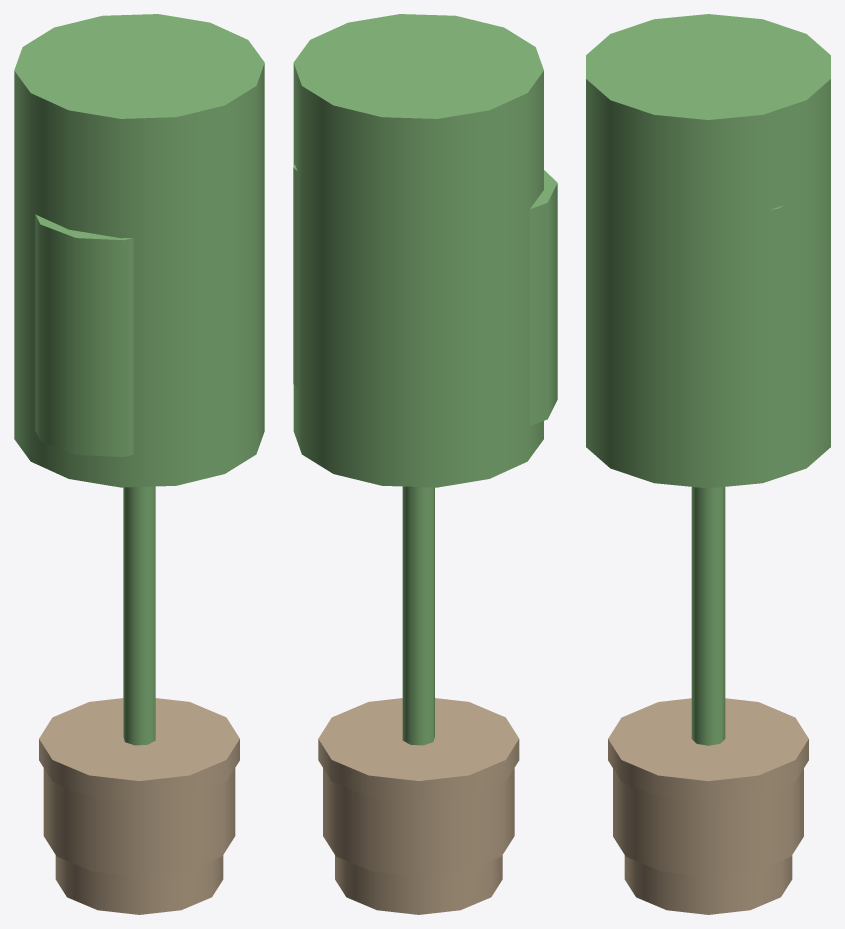
File: plant-large.glb
3 views of the same model, side by side, from view 1: azimuth 30°, elevation 25°; view 2: azimuth 150°, elevation 25°; view 3: azimuth 270°, elevation 25° (orthographic).
Bounding box in the file's own units: 0.43 × 1.5 × 0.4095.
